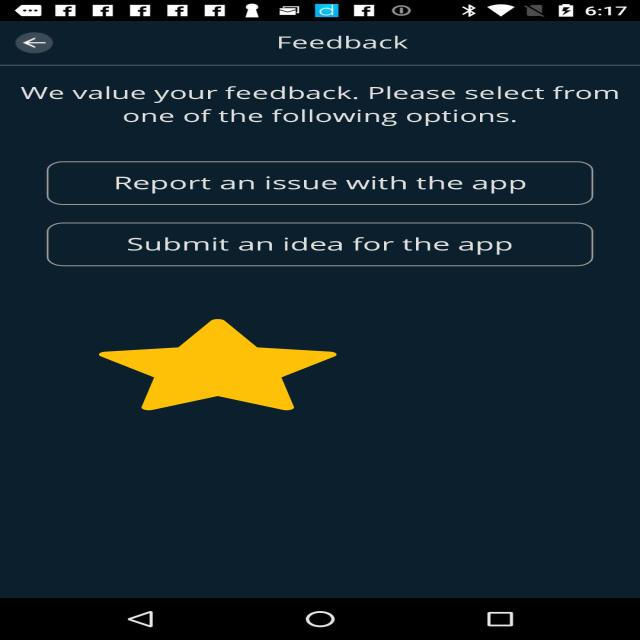forced continuity: (99, 319, 337, 410)
